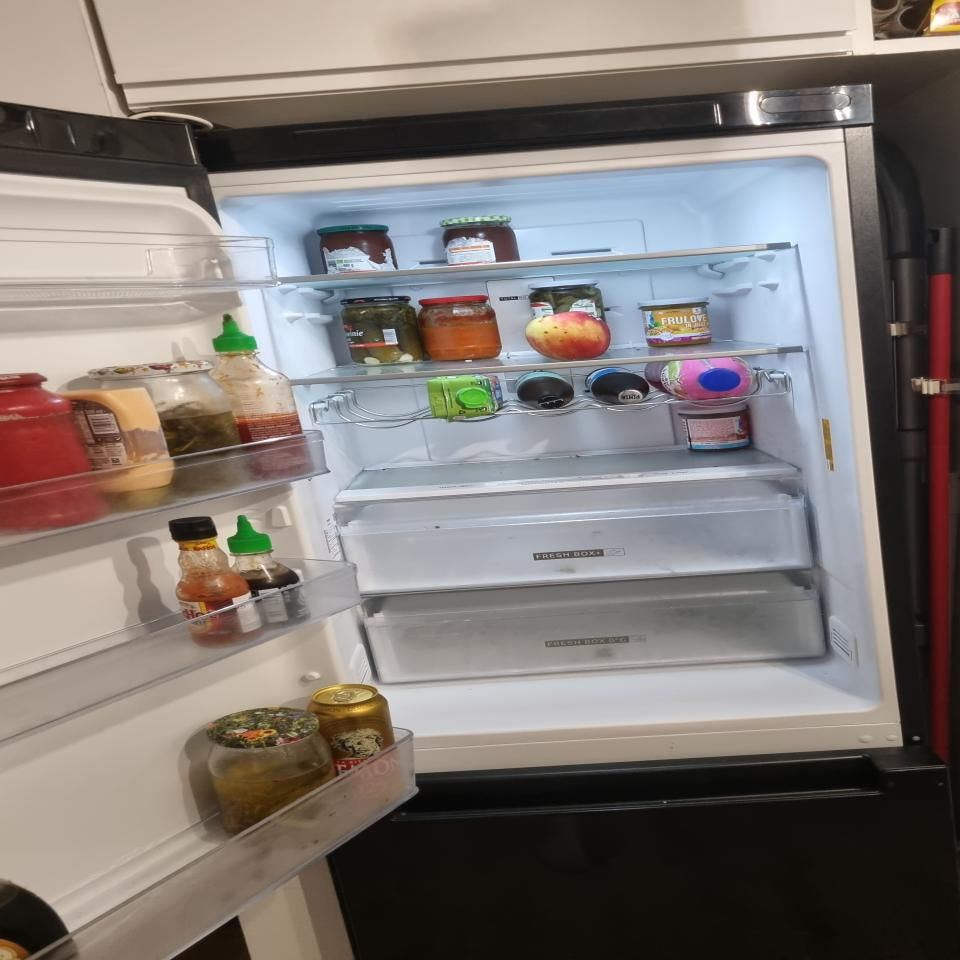Manzana: (526, 310, 612, 361)
